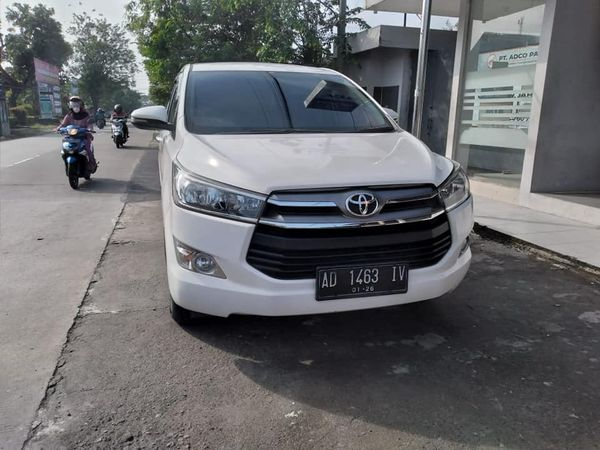plate: (315, 266, 409, 296)
